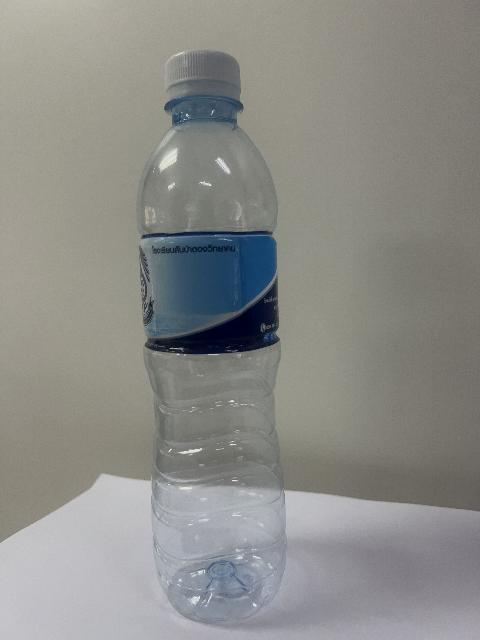bottle: (138, 51, 285, 621)
